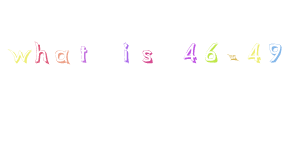-: (222, 49, 244, 70)
4: (175, 34, 204, 69), (244, 35, 265, 71)
6: (200, 38, 223, 69)
9: (264, 35, 289, 69)
a: (52, 41, 73, 68)
h: (31, 36, 54, 70)
i: (112, 36, 138, 69)
s: (137, 46, 159, 69)
t: (73, 41, 94, 67)
w: (5, 40, 31, 68)
